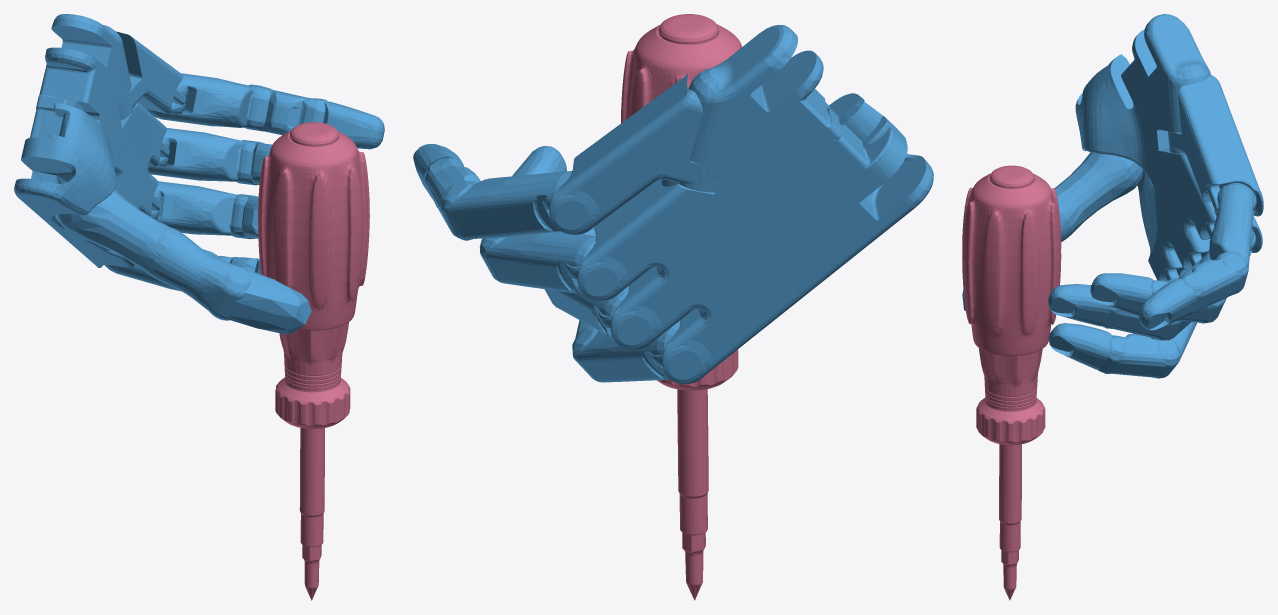
The picture shows the model from 3 angles, left to right: view 1: azimuth 30°, elevation 25°; view 2: azimuth 150°, elevation 25°; view 3: azimuth 270°, elevation 25°; orthographic projection. The views are drawn at different scales.
Visible parts, largest first — view 1: 2; view 2: 2; view 3: 2.
Boxes of the visible parts, x1,y1,x2,y2 form: 2: [14, 14, 384, 600]; 2: [413, 14, 933, 600]; 2: [962, 14, 1263, 600].
Size of the model in its own units: 0.1869 by 0.2567 by 0.136.
